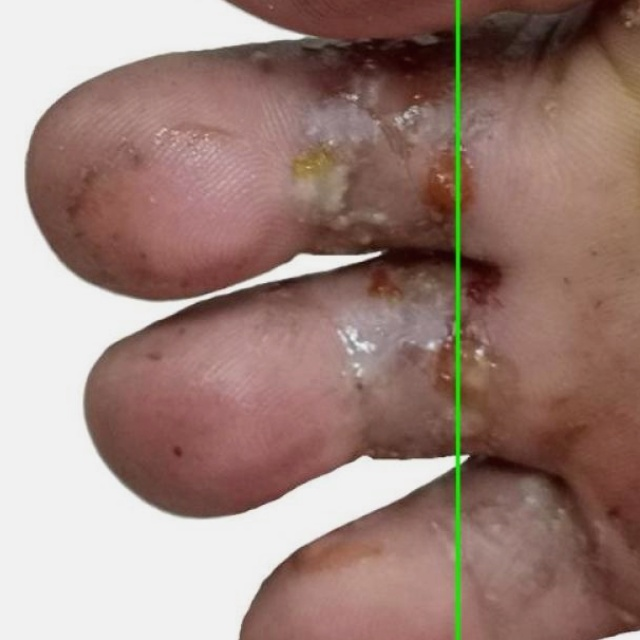Scabies: (0, 0, 458, 639)
